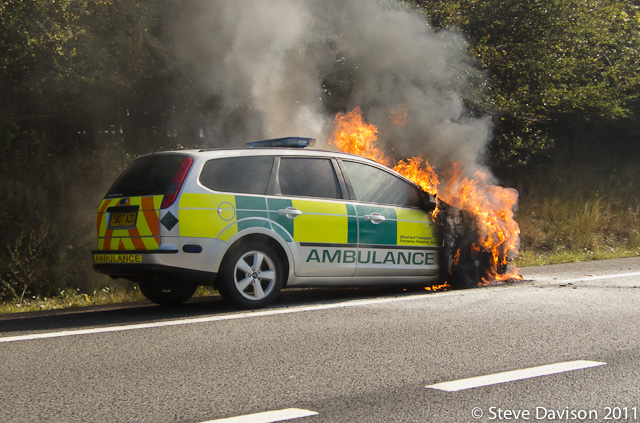fire: (333, 103, 528, 295)
